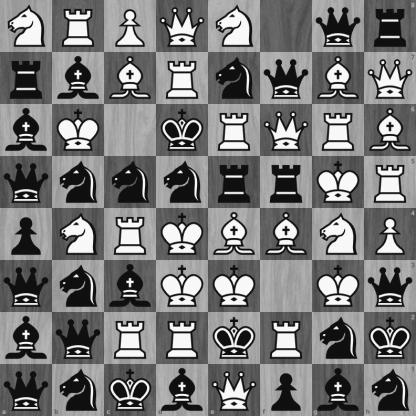B: (364, 104, 416, 156), (105, 53, 156, 104), (209, 209, 260, 260), (261, 209, 312, 260), (313, 53, 364, 104)
K: (53, 105, 104, 156), (157, 209, 208, 260), (157, 261, 208, 312), (209, 261, 260, 312), (313, 157, 364, 208), (313, 261, 364, 312)
N: (1, 1, 52, 52), (53, 209, 104, 260), (209, 1, 260, 52), (313, 209, 364, 260)
P: (364, 209, 416, 260), (105, 1, 156, 52)
Q: (364, 52, 416, 104), (209, 364, 260, 416), (157, 1, 208, 52), (261, 105, 312, 156)
R: (364, 156, 416, 209), (53, 1, 104, 52), (105, 209, 156, 260), (105, 313, 156, 364), (157, 53, 208, 104), (157, 313, 208, 364), (209, 105, 260, 156), (261, 313, 312, 364), (313, 105, 364, 156)
b: (156, 364, 209, 416), (312, 364, 364, 416), (1, 105, 52, 156), (1, 313, 52, 364), (53, 53, 104, 104), (105, 261, 156, 312)
board: (0, 0, 415, 415)
k: (104, 364, 156, 416), (364, 312, 416, 364), (157, 105, 208, 156), (209, 313, 260, 364)
n: (52, 364, 104, 416), (364, 364, 416, 416), (53, 157, 104, 208), (53, 261, 104, 312), (105, 157, 156, 208), (157, 157, 208, 208), (209, 53, 260, 104), (313, 313, 364, 364)
p: (260, 364, 312, 416), (1, 209, 52, 260)
q: (0, 364, 52, 416), (364, 260, 416, 312), (1, 157, 52, 208), (1, 261, 52, 312), (53, 313, 104, 364), (261, 53, 312, 104), (313, 1, 364, 52)
r: (364, 0, 416, 52), (1, 53, 52, 104), (209, 157, 260, 208), (261, 157, 312, 208)
